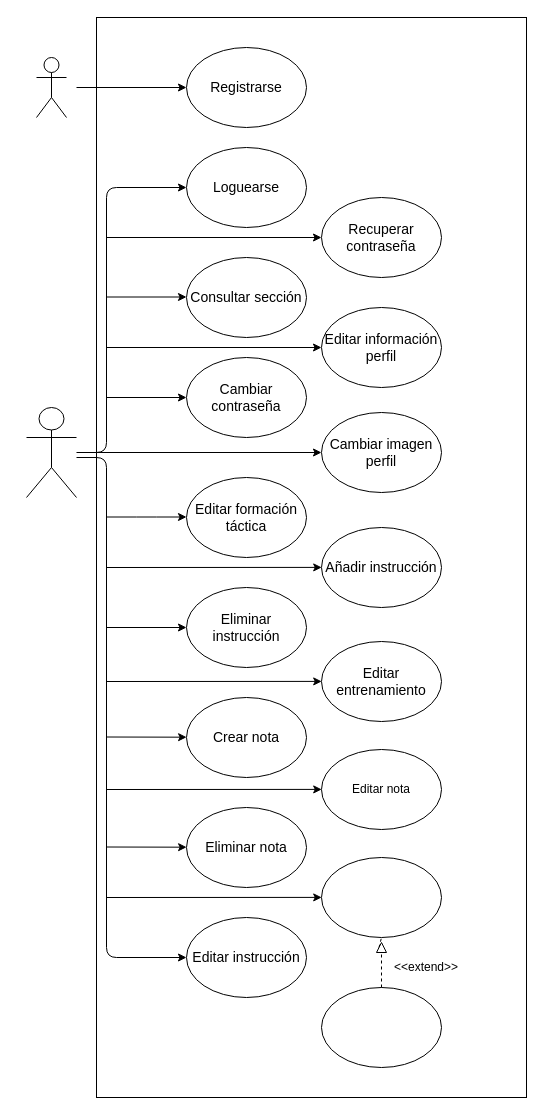
This 544x1115 diagram has some shape labels left out. The centre of each missing label's shape, as x and y in pixels:
Dibujar en pizarra: point 381,897
Guardar dibujo pizarra como imagen: point 381,1027
Manager: point 51,452
Usuario no registrado: point 51,87
